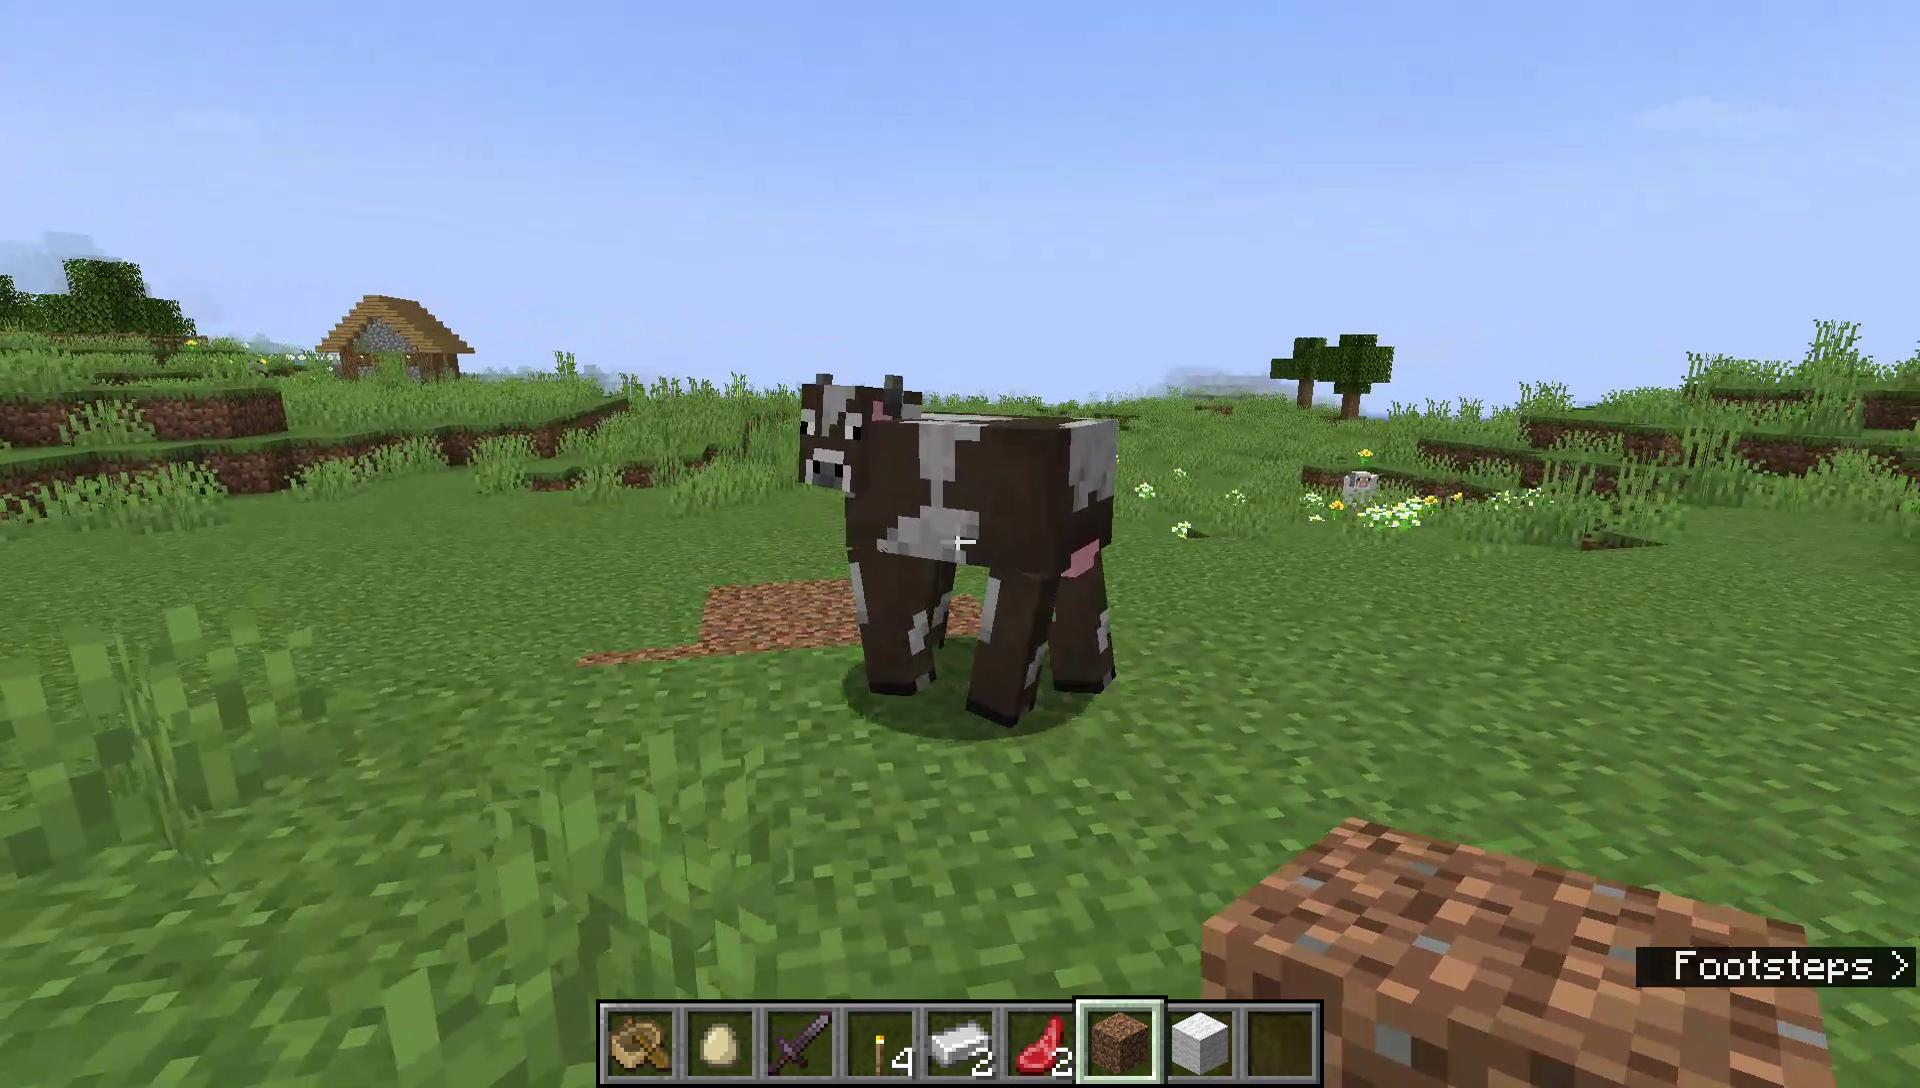cow: (796, 367, 1122, 735)
sheep: (1342, 469, 1379, 513)
